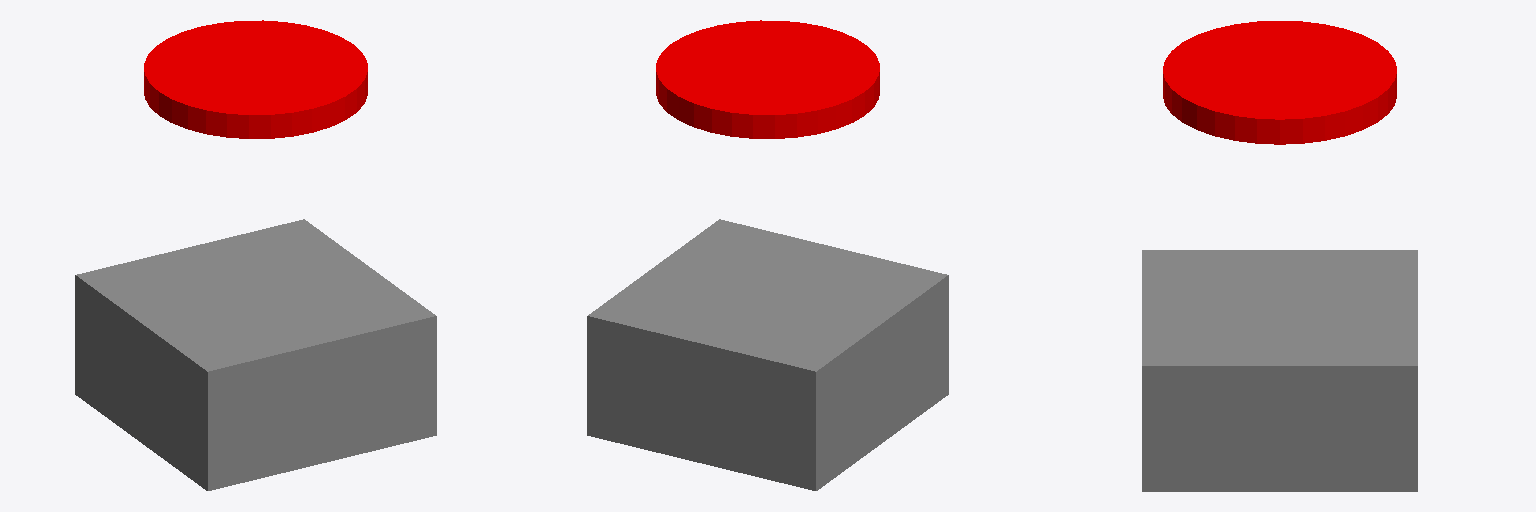
URDF robot description (box_circle_robot):
<?xml version="1.0"?>
<robot name="box_circle_robot">

    <!-- Link: Box -->
    <link name="base">
        <visual>
            <geometry>
                <box size="0.1 0.1 0.05"/>
            </geometry>
            <origin xyz="0 0 0" rpy="0 0 0"/>
            <material name="gray">
                <color rgba="0.6 0.6 0.6 1.0"/>
            </material>
        </visual>
        <collision>
            <geometry>
                <box size="0.1 0.1 0.05"/>
            </geometry>
            <origin xyz="0 0 0" rpy="0 0 0"/>
        </collision>
        <inertial>
            <mass value="2.5"/>
            <origin xyz="0 0 0"/>
            <inertia ixx="0" iyy="0" izz="0" ixy="0" ixz="0" iyz="0"/>
        </inertial>
    </link>

    <!-- Link: Circle -->
    <link name="circle">
        <visual>
            <geometry>
                <cylinder radius="0.0425" length="0.01"/>
            </geometry>
            <origin xyz="0 0 0.0575" rpy="0 0 0"/>
            <material name="red">
                <color rgba="1 0 0 1.0"/>
            </material>
        </visual>
        <collision>
            <geometry>
                <cylinder radius="0.0425" length="0.01"/>
            </geometry>
            <origin xyz="0 0 0.0575" rpy="0 0 0"/>
        </collision>
        <inertial>
            <mass value="1"/>
            <origin xyz="0 0 0"/>
            <inertia ixx="0" iyy="0" izz="0" ixy="0" ixz="0" iyz="0"/>
        </inertial>
    </link>

    <!-- Prismatic Joint -->
    <joint name="prismatic_joint" type="prismatic">
        <parent link="base"/>
        <child link="circle"/>
        <origin xyz="0 0 0.0575"/>
        <axis xyz="0 0 1"/>
        <limit lower="-0.05" upper="0" effort="10.0" velocity="1"/>
        <dynamics damping="0" friction="0"/>
    </joint>

  <link name="world">
    <inertial>
      <mass value="0"/>
      <inertia ixx="0.0" ixy="0.0" ixz="0.0" iyy="0.0" iyz="0.0" izz="0.0"/>
    </inertial>
  </link>
  <joint name="fixed_joint_1" type="fixed">
    <parent link="world"/>
    <child link="base"/>
  </joint>
</robot>

--- Render facts (derived) ---
The picture shows the robot from 3 angles, left to right: view 1: azimuth 30°, elevation 25°; view 2: azimuth 150°, elevation 25°; view 3: azimuth 270°, elevation 25°; orthographic projection.
Robot: box_circle_robot — 3 links, 2 joints (1 prismatic, 1 fixed); root link world; default pose: every joint at zero.
Links seen in each view (by area): view 1: base, circle; view 2: base, circle; view 3: base, circle.
Boxes of the visible links, x1,y1,x2,y2 form: base: (75,219,436,490); circle: (144,20,367,138); base: (587,219,948,490); circle: (656,20,879,138); base: (1142,250,1417,491); circle: (1163,21,1396,144).
Size in the robot's own frame: 0.1 by 0.1 by 0.145 metres.
Geometry: primitives only (box / cylinder / sphere), no mesh files.